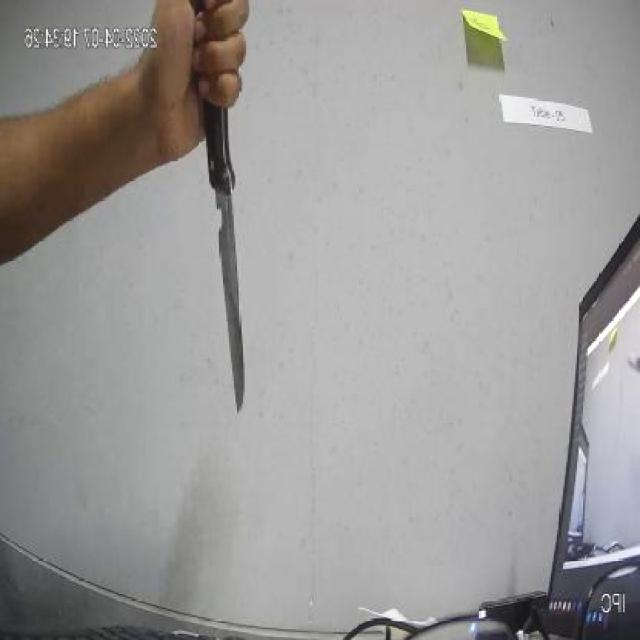knife: (192, 8, 245, 438)
